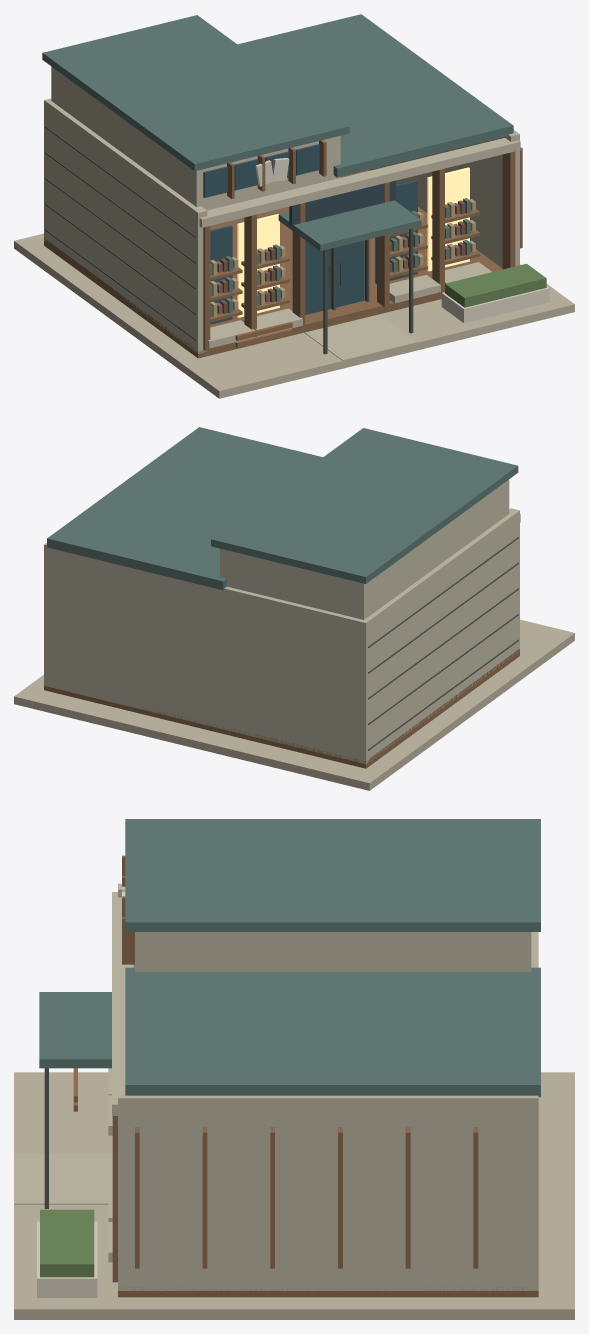
Rendered from library_lod.glb.
3 views of the same model, one above another, from view 1: azimuth 30°, elevation 25°; view 2: azimuth 150°, elevation 25°; view 3: azimuth 270°, elevation 25° (orthographic). The views are drawn at different scales.
Visible parts, largest first — view 1: library_Book_Hall_Coping, library_West_Stone_Wall, library_Reading_Wing_Roof, library_Civic_Paving, library_Upper_Book_Hall, library_Reading_Floor, library_Front_Lintel, library_East_Stone_Wall, library_Entrance_Canopy, library_Recessed_Double_Door, library_Entrance_Walk, library_Hedge (+22 smaller); view 2: library_Rear_Stone_Wall, library_Book_Hall_Coping, library_Reading_Wing_Roof, library_West_Stone_Wall, library_Civic_Paving, library_Upper_Book_Hall, library_Reading_Floor; view 3: library_East_Stone_Wall, library_Reading_Wing_Roof, library_Book_Hall_Coping, library_Civic_Paving, library_Upper_Book_Hall, library_Entrance_Canopy, library_Entrance_Walk, library_Hedge, library_Reading_Floor, library_Front_Lintel, library_Rear_Stone_Wall, library_Raised_Planter (+8 smaller).
Boxes of the visible parts, bbox=[...] form: library_Book_Hall_Coping: bbox=[42, 15, 349, 170]; library_West_Stone_Wall: bbox=[44, 98, 207, 353]; library_Reading_Wing_Roof: bbox=[238, 14, 513, 177]; library_Civic_Paving: bbox=[14, 233, 574, 398]; library_Upper_Book_Hall: bbox=[51, 66, 340, 210]; library_Reading_Floor: bbox=[44, 170, 502, 358]; library_Front_Lintel: bbox=[199, 138, 520, 227]; library_East_Stone_Wall: bbox=[368, 130, 519, 267]; library_Entrance_Canopy: bbox=[278, 200, 421, 250]; library_Recessed_Double_Door: bbox=[305, 240, 364, 314]; library_Entrance_Walk: bbox=[304, 314, 417, 360]; library_Hedge: bbox=[445, 263, 546, 307]; library_Rear_Stone_Wall: bbox=[44, 543, 371, 763]; library_Book_Hall_Coping: bbox=[211, 428, 518, 583]; library_Reading_Wing_Roof: bbox=[47, 427, 322, 590]; library_West_Stone_Wall: bbox=[357, 508, 519, 760]; library_Civic_Paving: bbox=[14, 619, 574, 790]; library_Upper_Book_Hall: bbox=[220, 479, 509, 619]; library_Reading_Floor: bbox=[44, 648, 519, 768]; library_East_Stone_Wall: bbox=[118, 1092, 538, 1290]; library_Reading_Wing_Roof: bbox=[125, 967, 540, 1097]; library_Book_Hall_Coping: bbox=[125, 819, 540, 931]; library_Civic_Paving: bbox=[14, 1072, 574, 1319]; library_Upper_Book_Hall: bbox=[135, 932, 531, 972]; library_Entrance_Canopy: bbox=[39, 992, 111, 1068]; library_Entrance_Walk: bbox=[14, 1153, 112, 1204]; library_Hedge: bbox=[40, 1209, 94, 1277]; library_Reading_Floor: bbox=[118, 1287, 538, 1297]; library_Front_Lintel: bbox=[112, 892, 133, 1115]; library_Rear_Stone_Wall: bbox=[524, 932, 538, 1290]; library_Raised_Planter: bbox=[37, 1221, 97, 1297].
Size of the model in its own units: 11.6 by 6.26 by 11.6.
